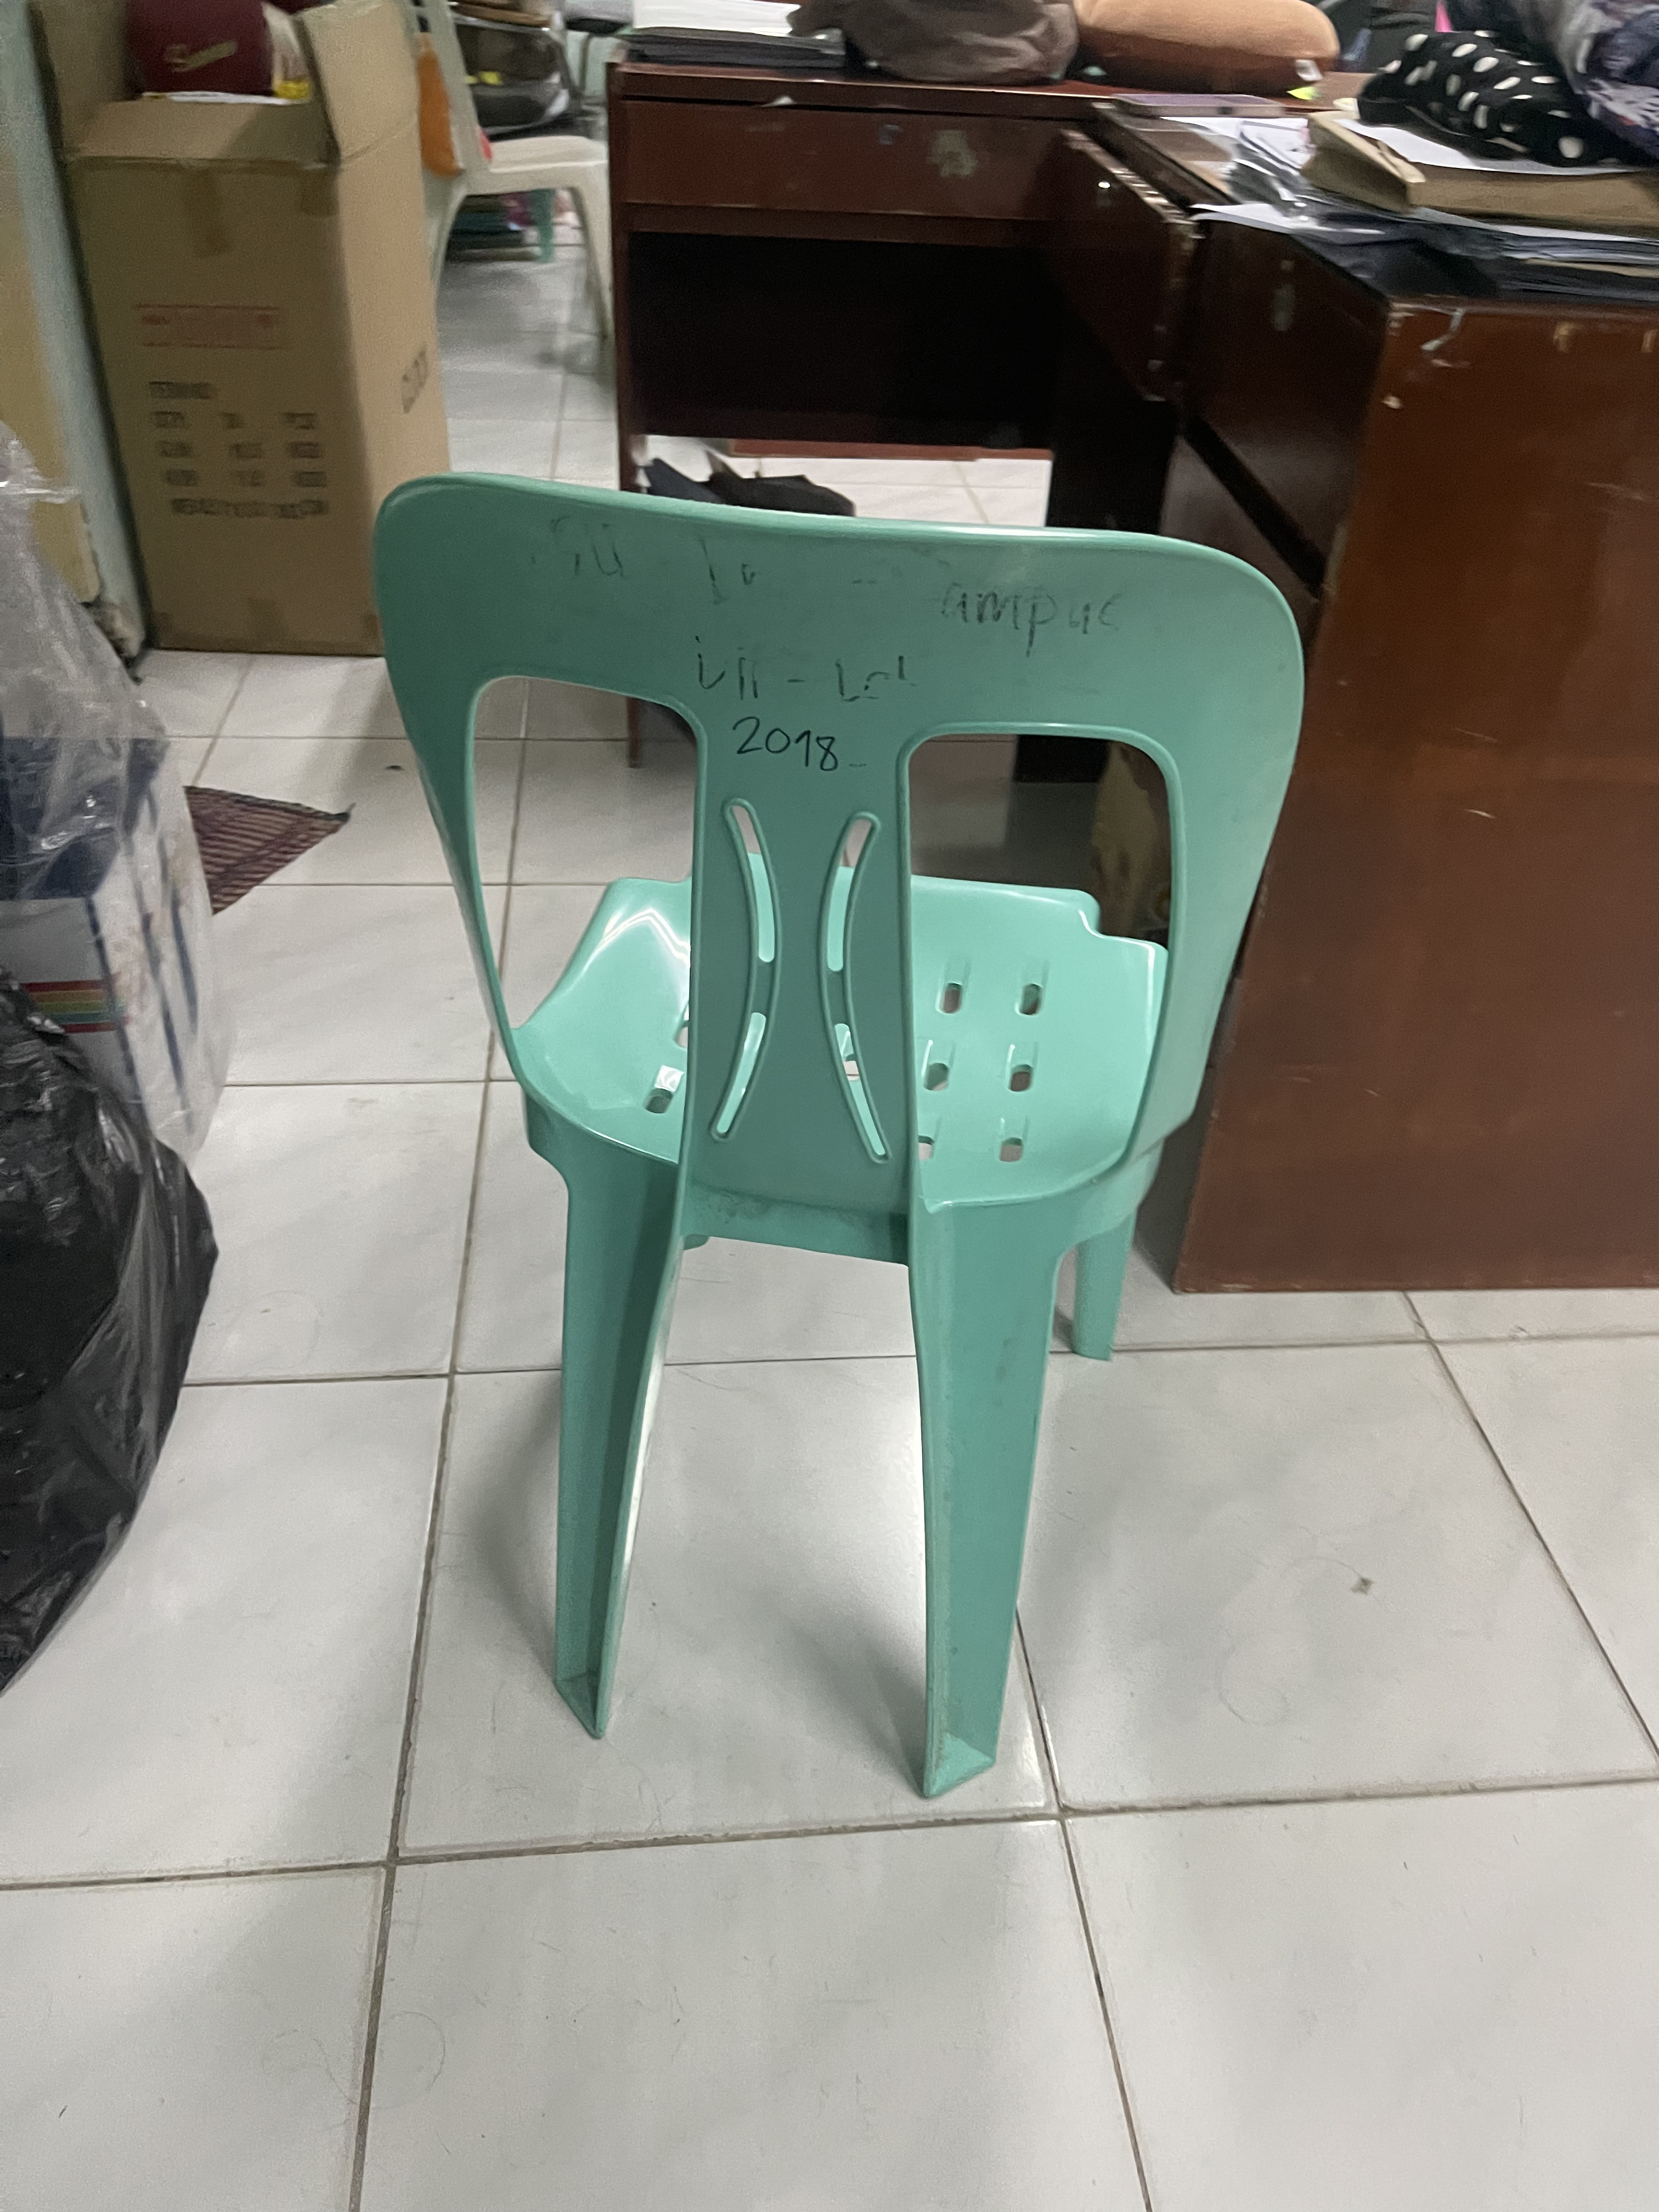chair2: (357, 462, 1316, 1843)
